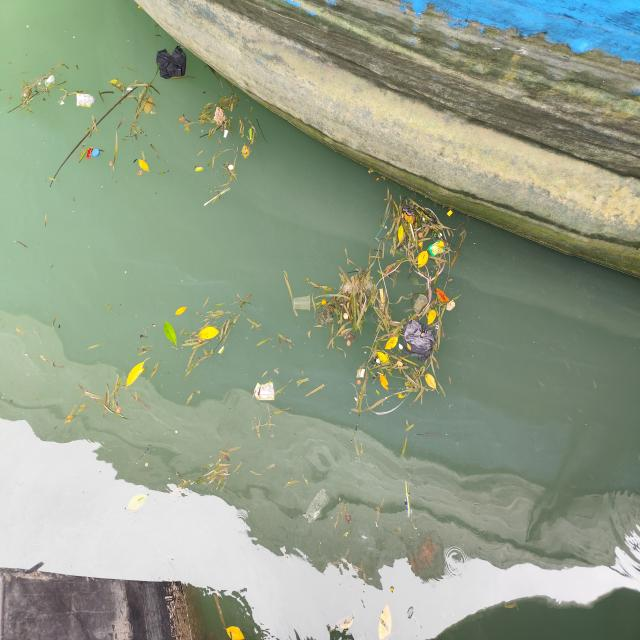Bungkus Makanan: (254, 383, 276, 403), (75, 93, 95, 109), (429, 242, 446, 258)
Bungkus Minuman: (293, 295, 312, 313), (414, 295, 429, 314), (44, 76, 57, 87)
Kantong Plastik: (404, 320, 437, 360), (157, 46, 188, 80)
